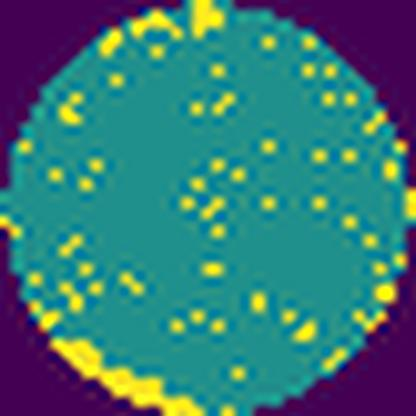Edge-Loc: (44, 332, 208, 416), (189, 0, 224, 42)
